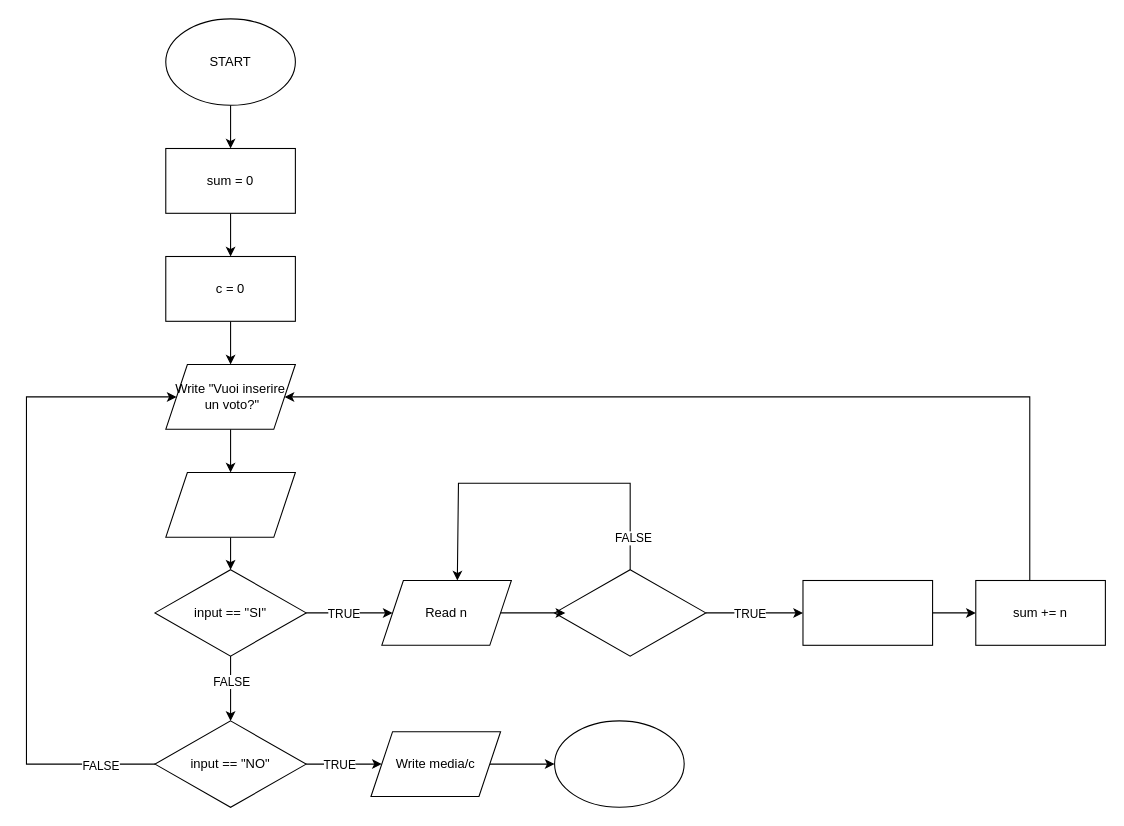
This 1124x826 diagram has some shape labels left out. Here are the shapes that lost their labels. From the top down, the box of each, then its label:
(165, 471, 295, 537): Read input
(554, 569, 706, 656): n >= 0
(802, 579, 933, 645): c++
(554, 720, 684, 807): END
